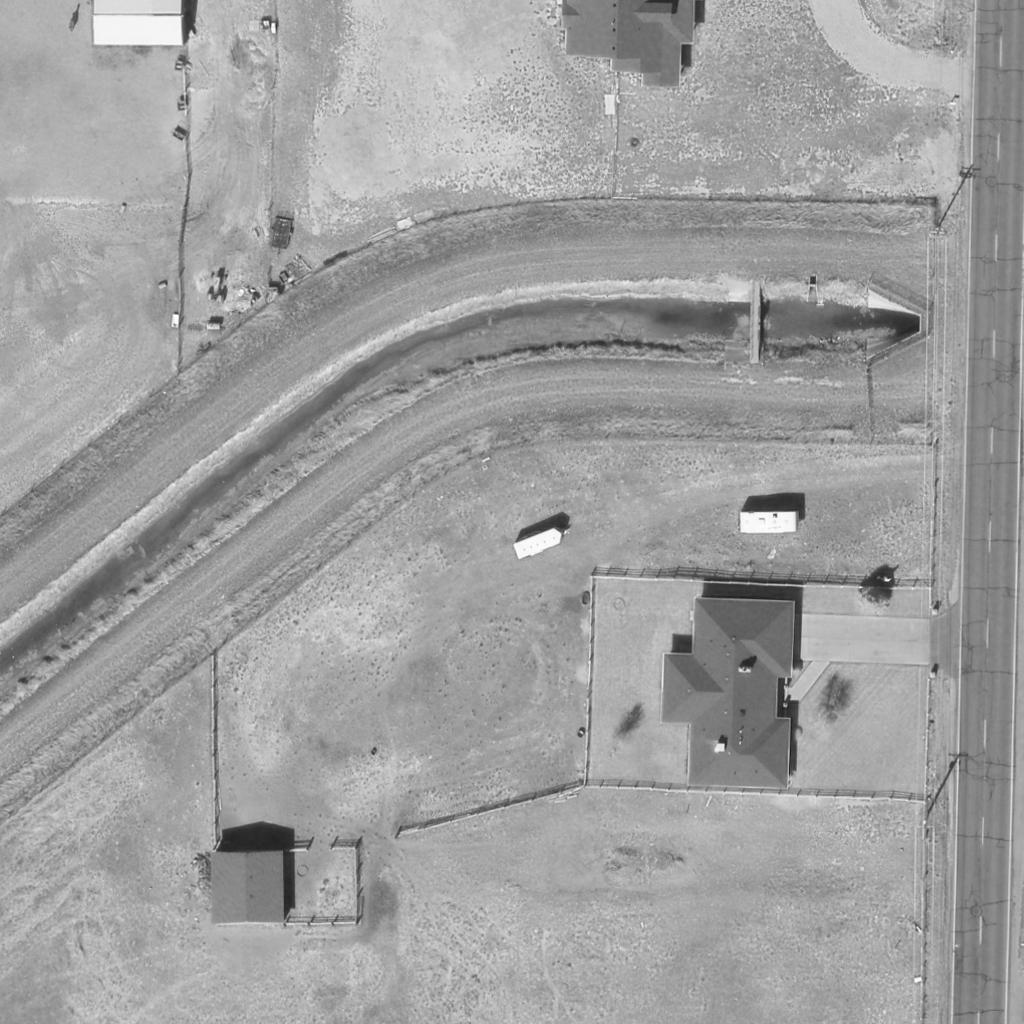vehicle: (511, 525, 567, 563), (739, 510, 799, 534), (205, 272, 231, 306)
